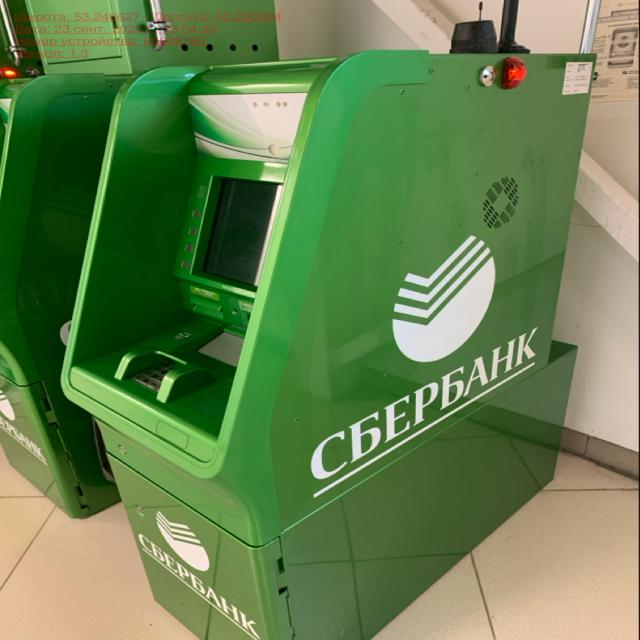bank: (62, 49, 590, 640), (0, 75, 161, 518)
